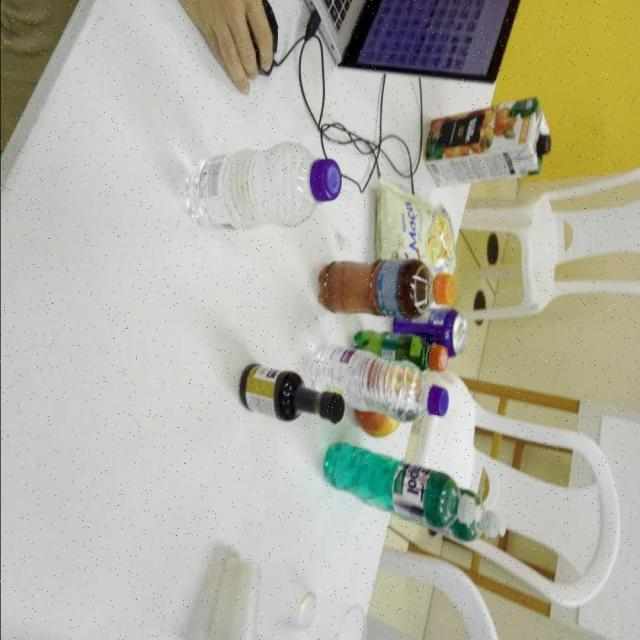Apple: (352, 411, 398, 438)
Cleaner: (320, 438, 484, 532), (450, 484, 503, 548)
CornFlakes: (369, 180, 458, 272)
EnglishSauce: (240, 366, 344, 423)
Guarana: (353, 330, 449, 373)
IceTea: (316, 261, 456, 319)
Tonic: (391, 306, 468, 357)
Water: (183, 140, 339, 233), (309, 344, 447, 426)
